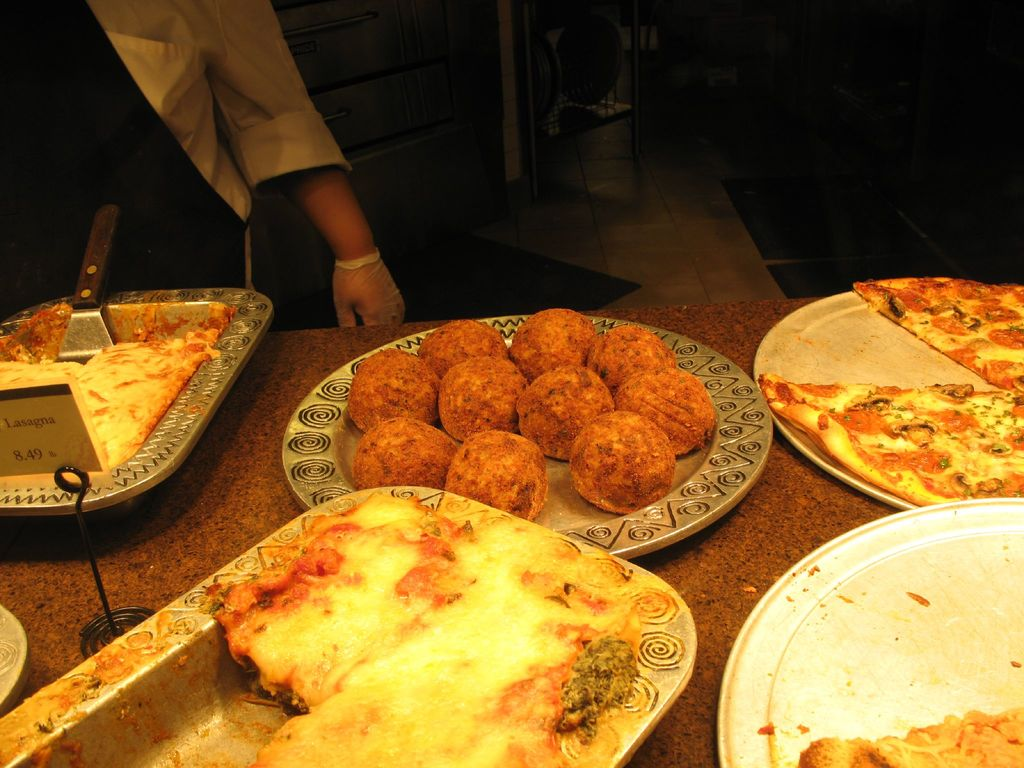Pizza: (193, 485, 661, 767), (748, 371, 1023, 509), (0, 328, 223, 489), (845, 273, 1023, 392), (792, 693, 1023, 766)
